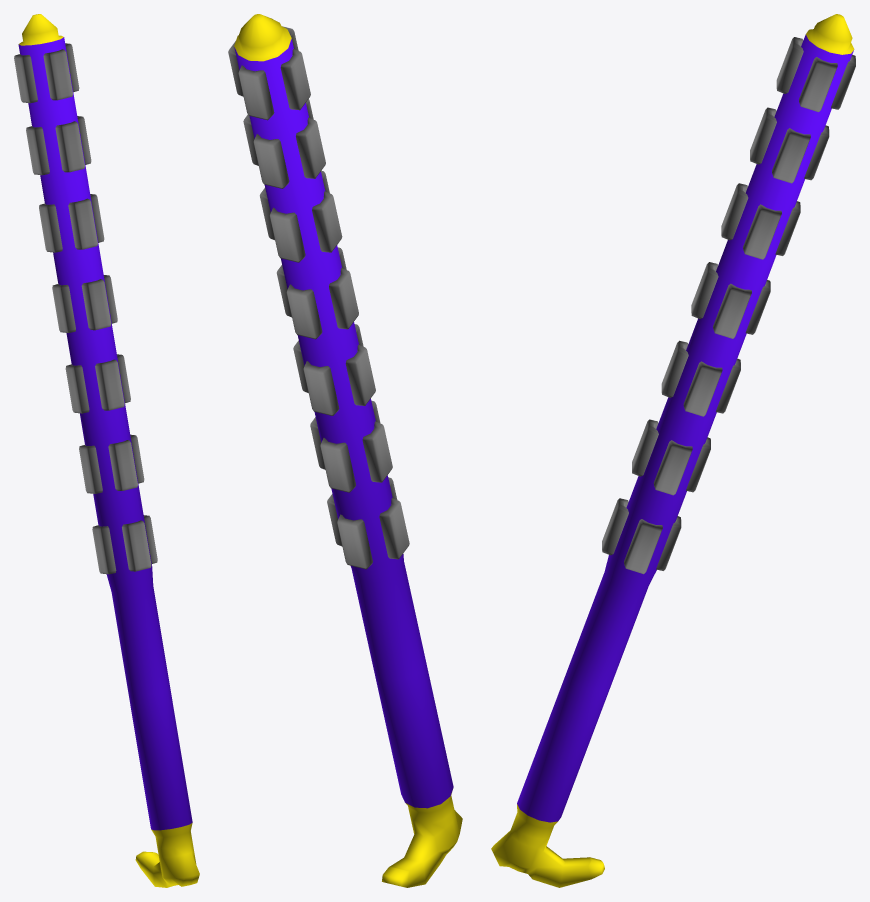
The model's file is Tetsubo.obj.
3 renders of one model, left to right at view 1: azimuth 30°, elevation 25°; view 2: azimuth 150°, elevation 25°; view 3: azimuth 270°, elevation 25°, orthographic. The views are drawn at different scales.
Parts seen in each view (by area): view 1: Tetsubo_003, Box2080, Box2078, Box2084, Box2083, Box2079, Box2081, Box2082, Box2088, Box2090, Box2089, Box2087 (+3 smaller); view 2: Tetsubo_003, Box2076, Box2073, Box2074, Box2077, Box2071, Box2072, Box2075, Box2088, Box2087, Box2091, Box2085 (+3 smaller); view 3: Tetsubo_003, Box2069, Box2092, Box2093, Box2068, Box2067, Box2070, Box2094, Box2081, Box2082, Box2078, Box2083 (+3 smaller).
Boxes of the visible parts, left/top/right/bottom form: Tetsubo_003: left=18, top=14, right=199, bottom=887; Box2080: left=122, top=520, right=151, bottom=571; Box2078: left=43, top=49, right=72, bottom=100; Box2084: left=55, top=121, right=84, bottom=172; Box2083: left=68, top=198, right=97, bottom=249; Box2079: left=108, top=440, right=137, bottom=490; Box2081: left=95, top=359, right=124, bottom=410; Box2082: left=81, top=279, right=111, bottom=330; Box2088: left=65, top=364, right=89, bottom=413; Box2090: left=39, top=203, right=62, bottom=252; Box2089: left=52, top=284, right=75, bottom=332; Box2087: left=92, top=525, right=116, bottom=574; Tetsubo_003: left=234, top=14, right=462, bottom=887; Box2076: left=269, top=207, right=305, bottom=262; Box2073: left=337, top=514, right=372, bottom=569; Box2074: left=303, top=361, right=339, bottom=415; Box2077: left=253, top=134, right=289, bottom=188; Box2071: left=238, top=65, right=274, bottom=120; Box2072: left=320, top=438, right=355, bottom=492; Box2075: left=286, top=284, right=322, bottom=339; Box2088: left=345, top=344, right=375, bottom=405; Box2087: left=379, top=498, right=409, bottom=559; Box2091: left=296, top=117, right=325, bottom=178; Box2085: left=280, top=49, right=310, bottom=110; Tetsubo_003: left=491, top=14, right=854, bottom=887; Box2069: left=683, top=361, right=722, bottom=416; Box2092: left=743, top=204, right=781, bottom=259; Box2093: left=713, top=283, right=751, bottom=338; Box2068: left=653, top=440, right=692, bottom=495; Box2067: left=624, top=519, right=662, bottom=574; Box2070: left=772, top=128, right=810, bottom=183; Box2094: left=799, top=57, right=837, bottom=112; Box2081: left=661, top=340, right=688, bottom=397; Box2082: left=691, top=262, right=718, bottom=318; Box2078: left=776, top=37, right=803, bottom=93; Box2083: left=721, top=183, right=748, bottom=240.
Bounding box in the file's own units: 26.13 × 384 × 146.
